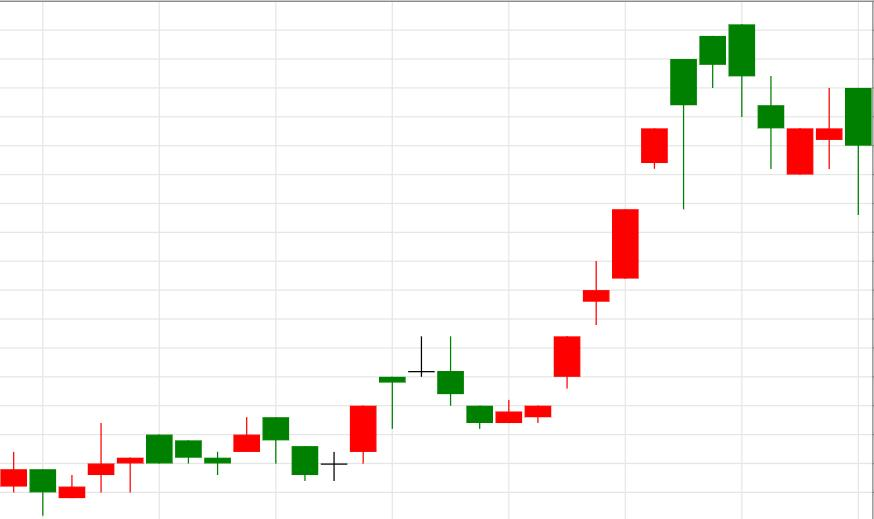hanging_man_fall: (495, 58, 698, 424)
